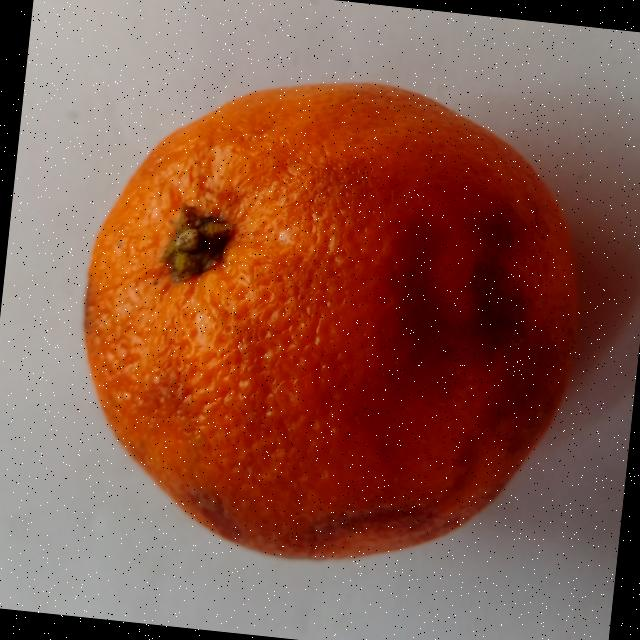overripe: (52, 51, 612, 596)
